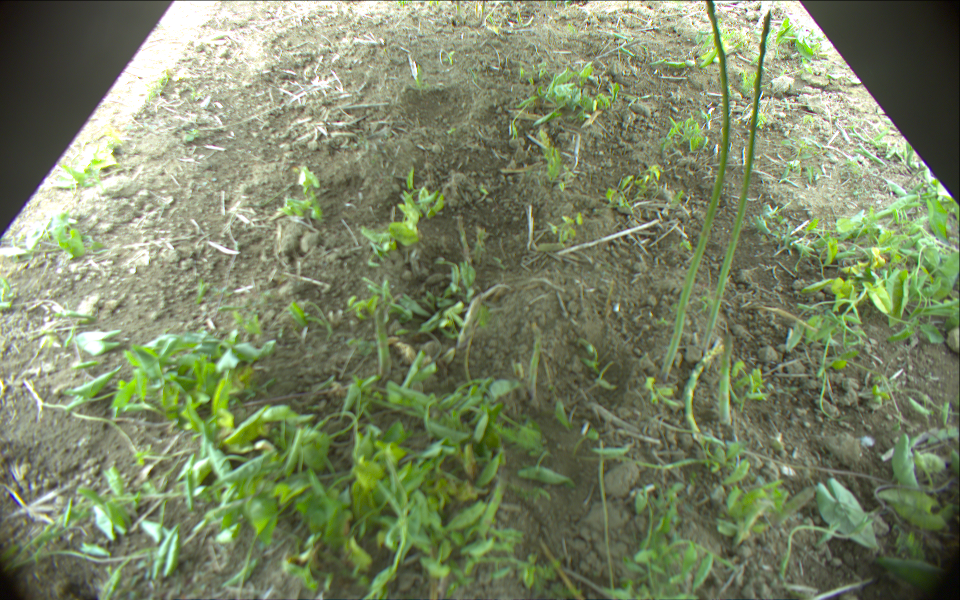aspa: (660, 1, 730, 381), (701, 11, 771, 357), (682, 342, 725, 438), (718, 333, 734, 426), (373, 308, 388, 377)
